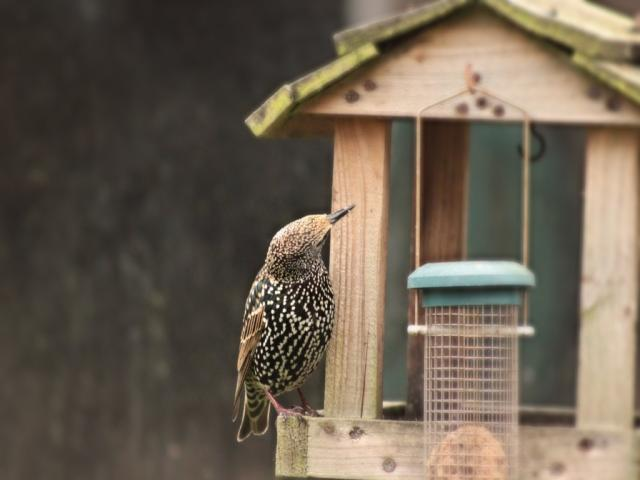Bird: (230, 202, 354, 441)
